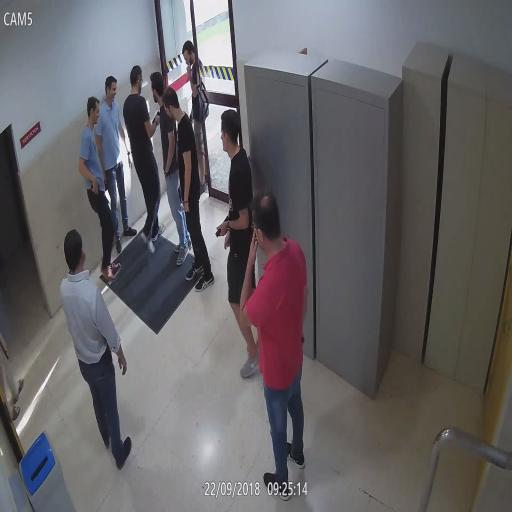Handgun: (215, 209, 231, 239), (104, 342, 114, 370), (90, 178, 100, 202)
